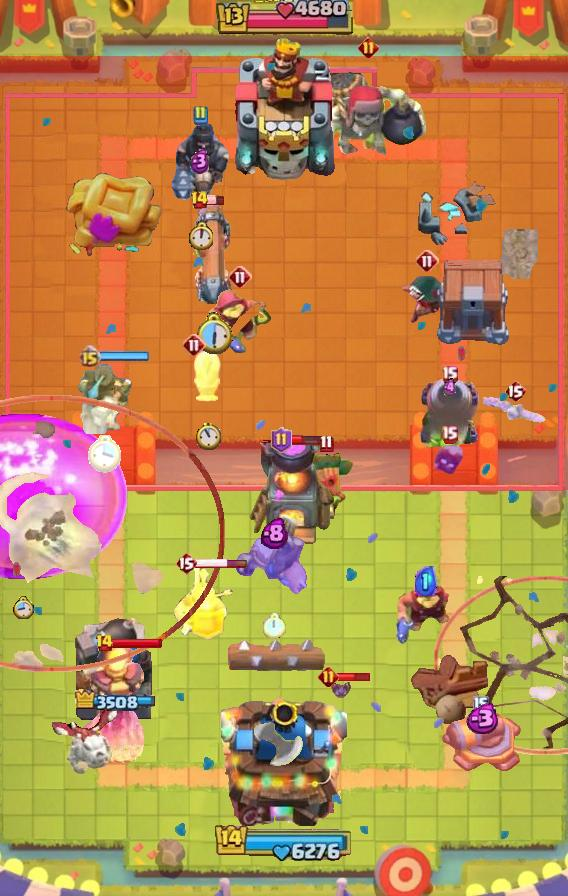barbarian: (483, 393, 547, 425)
barbarian-barrel: (329, 676, 353, 702)
battle-healer: (189, 199, 237, 311)
bomb: (434, 260, 512, 346)
bomber: (433, 444, 465, 476)
clock: (214, 822, 354, 862), (214, 0, 354, 38)
earthquake: (171, 567, 233, 643)
electro-dragon: (76, 644, 154, 770)
electro-giant: (307, 57, 429, 173)
electro-spirit: (462, 702, 500, 733), (260, 517, 287, 549), (415, 566, 437, 596), (190, 148, 210, 174), (443, 378, 456, 398)
elixir: (195, 313, 234, 356), (88, 434, 122, 473), (188, 222, 213, 251), (195, 422, 220, 450), (262, 613, 285, 639), (14, 596, 35, 619)
emote: (111, 637, 163, 649), (194, 558, 248, 569), (99, 351, 150, 361), (336, 671, 371, 683), (289, 434, 322, 446), (207, 194, 226, 205)
executioner: (192, 341, 224, 405)
fireball: (206, 289, 274, 355), (395, 578, 457, 646)
fisherman: (500, 229, 538, 279)
freeze: (235, 531, 313, 597)
goblin-barrel: (297, 448, 355, 526)
goblin-cage: (417, 377, 481, 447)
guard: (434, 577, 568, 756)
hunter: (248, 438, 336, 548)
inferno-dragon: (169, 113, 231, 201), (76, 358, 134, 434)
king-tower: (221, 690, 347, 826), (228, 35, 340, 181)
knight-evolution: (0, 412, 128, 579)
mini-pekka: (48, 699, 120, 777)
minion: (226, 635, 326, 677)
royal-ghost: (0, 395, 224, 672)
royal-giant: (247, 720, 303, 776)
royal-recruit: (440, 711, 522, 781)
selected: (73, 688, 155, 712)
tesla: (399, 276, 455, 324)
text: (415, 249, 439, 273), (228, 265, 252, 289), (182, 333, 206, 357), (272, 427, 293, 453), (79, 344, 102, 367), (504, 379, 526, 403), (175, 551, 197, 575), (357, 37, 378, 58), (318, 665, 339, 686), (191, 190, 210, 210), (95, 633, 114, 653), (441, 365, 458, 384), (192, 105, 208, 125), (441, 425, 458, 443), (473, 696, 489, 714), (319, 435, 334, 454)
tower-bar: (71, 611, 157, 731)
